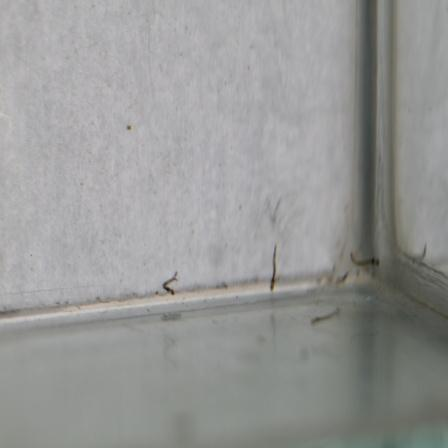Jentik-Nyamuk: (158, 271, 183, 300)
